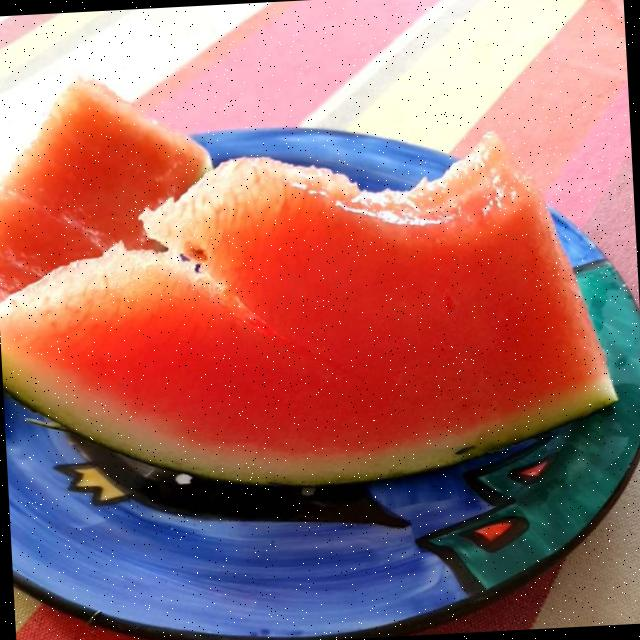watermelon-fresh: (0, 76, 601, 499)
